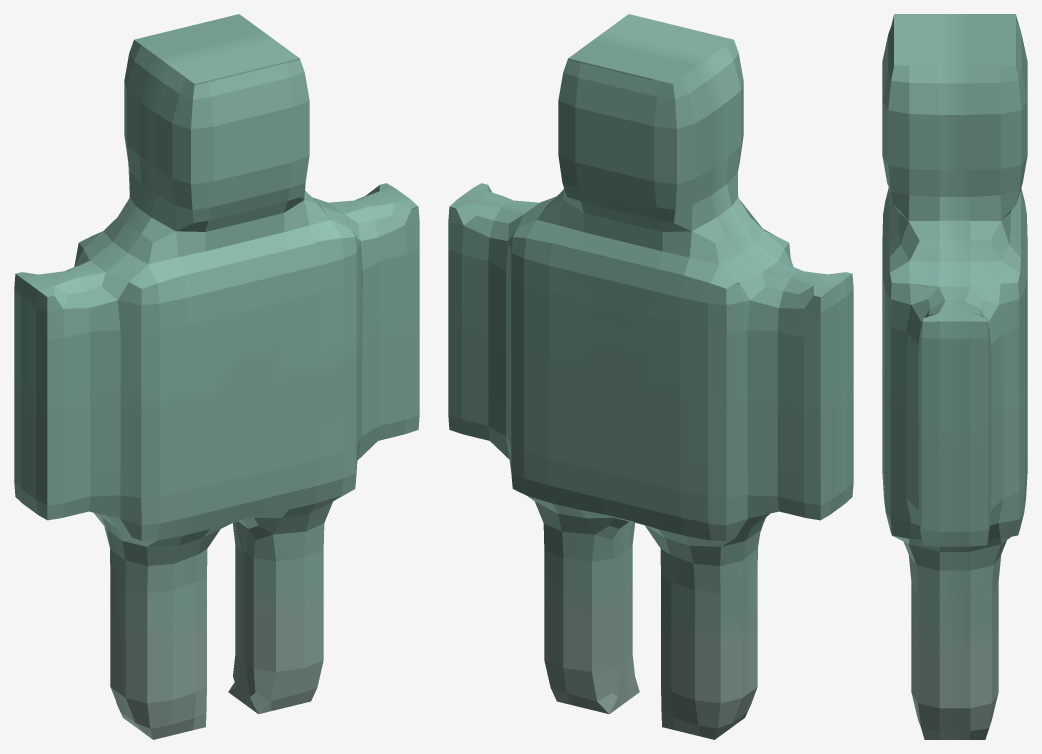
Rendered from pungsu.glb.
3 renders of one model, left to right at view 1: azimuth 30°, elevation 25°; view 2: azimuth 150°, elevation 25°; view 3: azimuth 270°, elevation 25°, orthographic.
Parts seen in each view (by area): view 1: geometry_0; view 2: geometry_0; view 3: geometry_0.
Part boxes in pixels (<box>): geometry_0: <box>14,14,419,739</box>; geometry_0: <box>448,14,853,739</box>; geometry_0: <box>882,14,1027,739</box>.
Bounding box in the file's own units: 0.597 × 1 × 0.199.
Materials: 1 (1 with a texture image).
